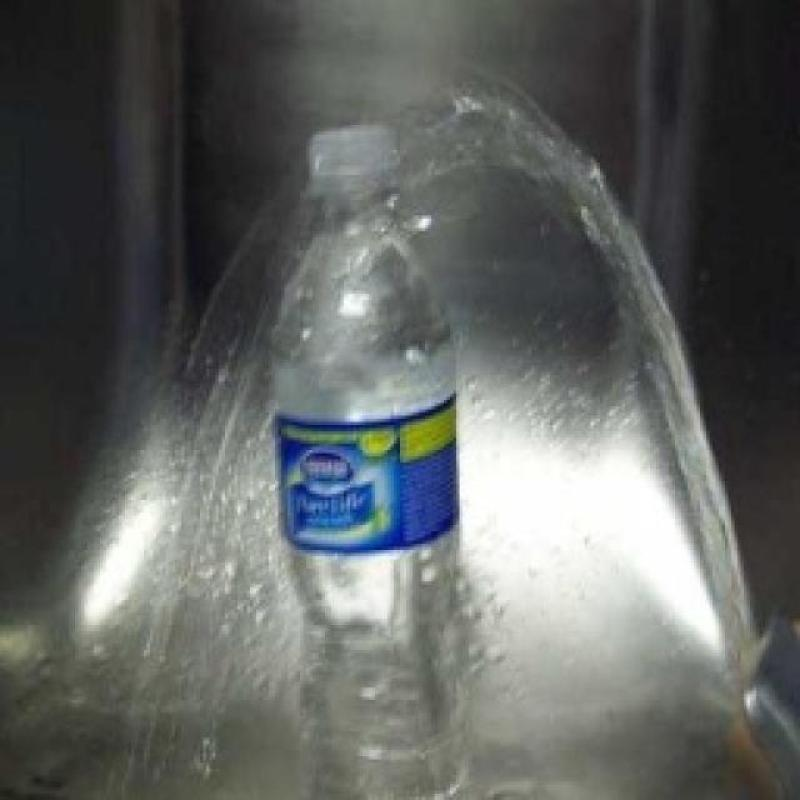botella: (267, 118, 483, 738)
